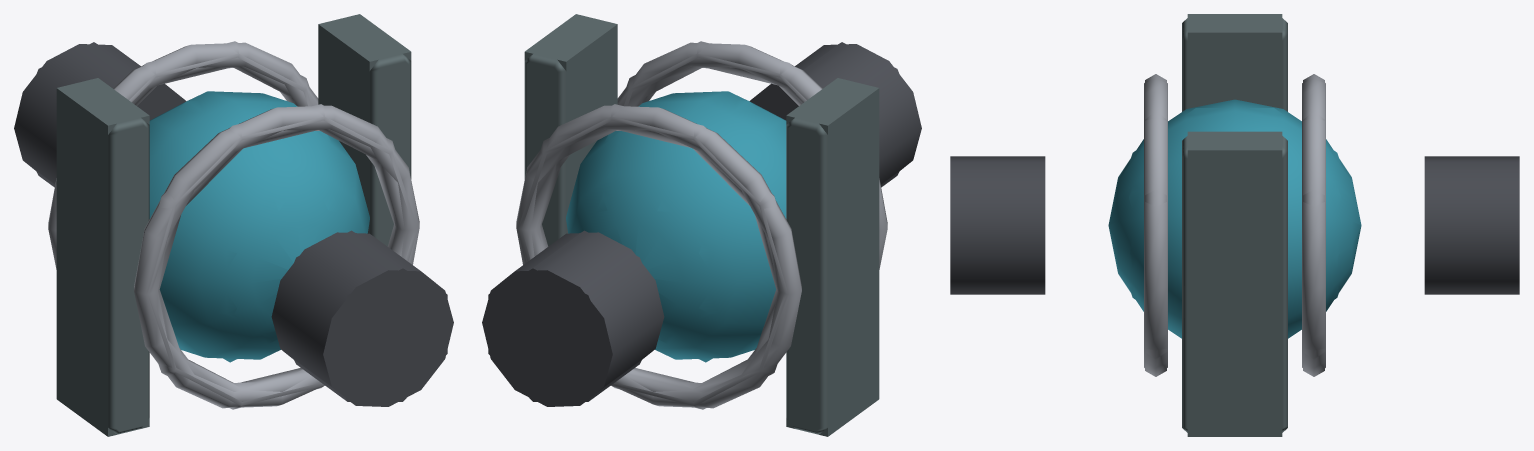
Rendered from gr_still.glb.
3 renders of one model, left to right at view 1: azimuth 30°, elevation 25°; view 2: azimuth 150°, elevation 25°; view 3: azimuth 270°, elevation 25°, orthographic. The views are drawn at different scales.
Parts seen in each view (by area): view 1: L0, L1; view 2: L0, L1; view 3: L0, L1.
Boxes of the visible parts, x1,y1,x2,y2 form: L0: [14, 16, 453, 434]; L1: [36, 14, 447, 436]; L0: [482, 16, 921, 434]; L1: [488, 14, 899, 436]; L0: [950, 18, 1519, 432]; L1: [950, 14, 1519, 436].
Size of the model in its own units: 0.102 by 0.1 by 0.18.
